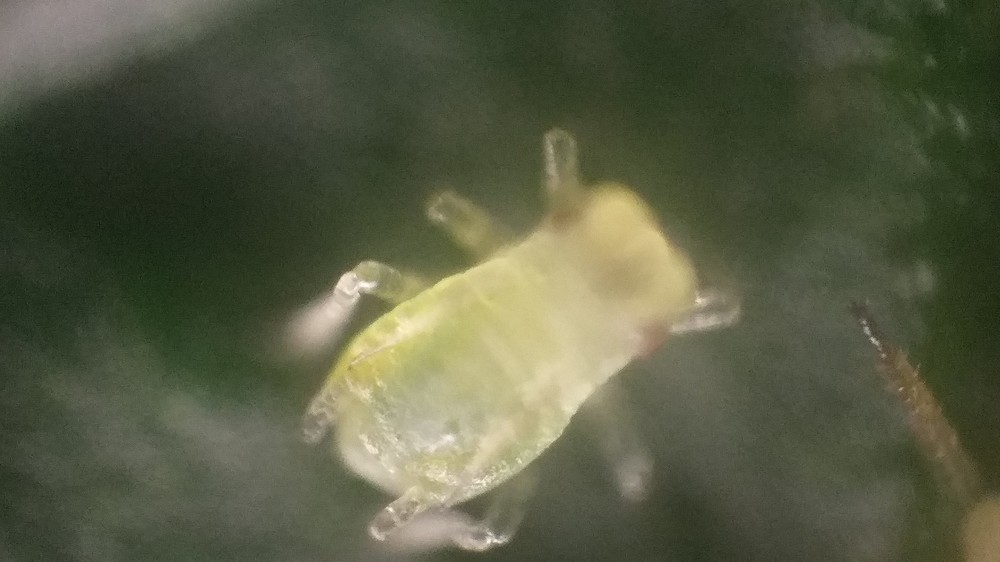Pulgon: (242, 111, 759, 558)
